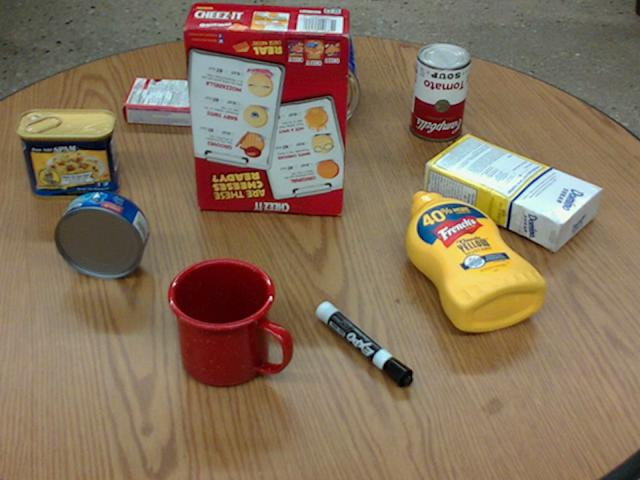cracker_box: (182, 2, 350, 212)
gelatin_box: (122, 78, 200, 126)
large_marker: (314, 301, 412, 387)
master_chef_can: (275, 8, 359, 129)
mug: (166, 257, 292, 387)
mustard_bottle: (404, 190, 544, 331)
potted_meat_can: (15, 110, 119, 200)
sugar_box: (421, 136, 601, 248)
tomato_soup_can: (407, 41, 468, 139)
tuna_fish_can: (54, 190, 148, 278)
